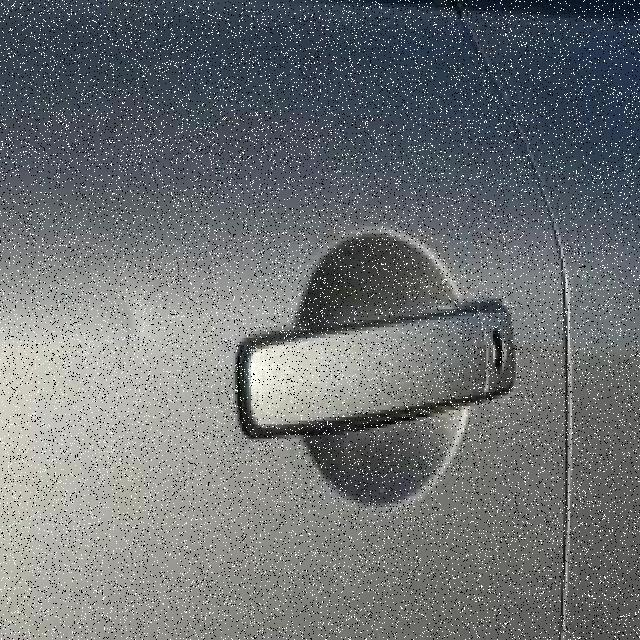doorouter-dent: (0, 11, 570, 636)
